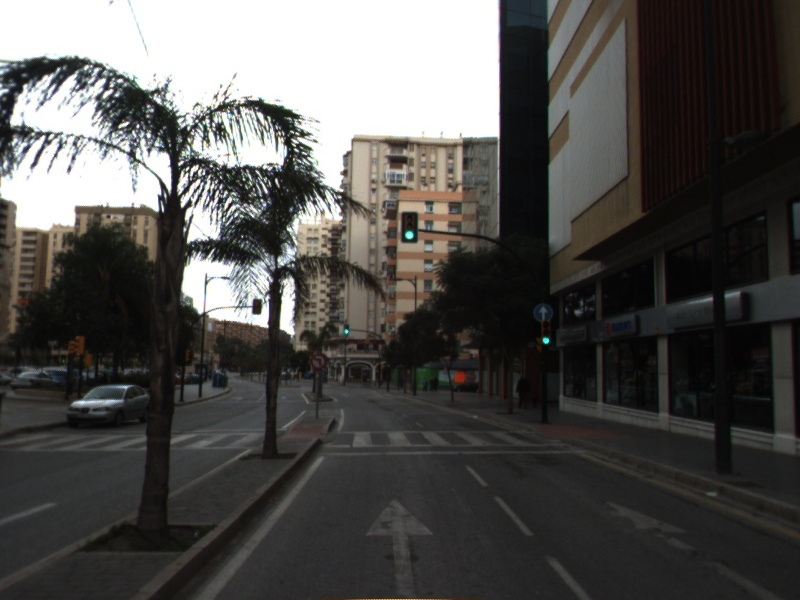STRAIGHT: (600, 497, 786, 600), (361, 494, 439, 600)
